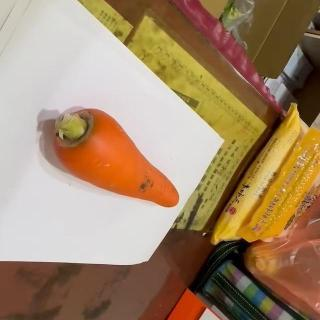carrot: (51, 107, 180, 209)
